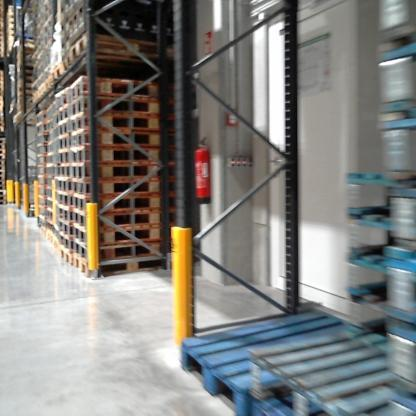pallets: (172, 298, 404, 415), (46, 74, 163, 278), (34, 35, 89, 91)
